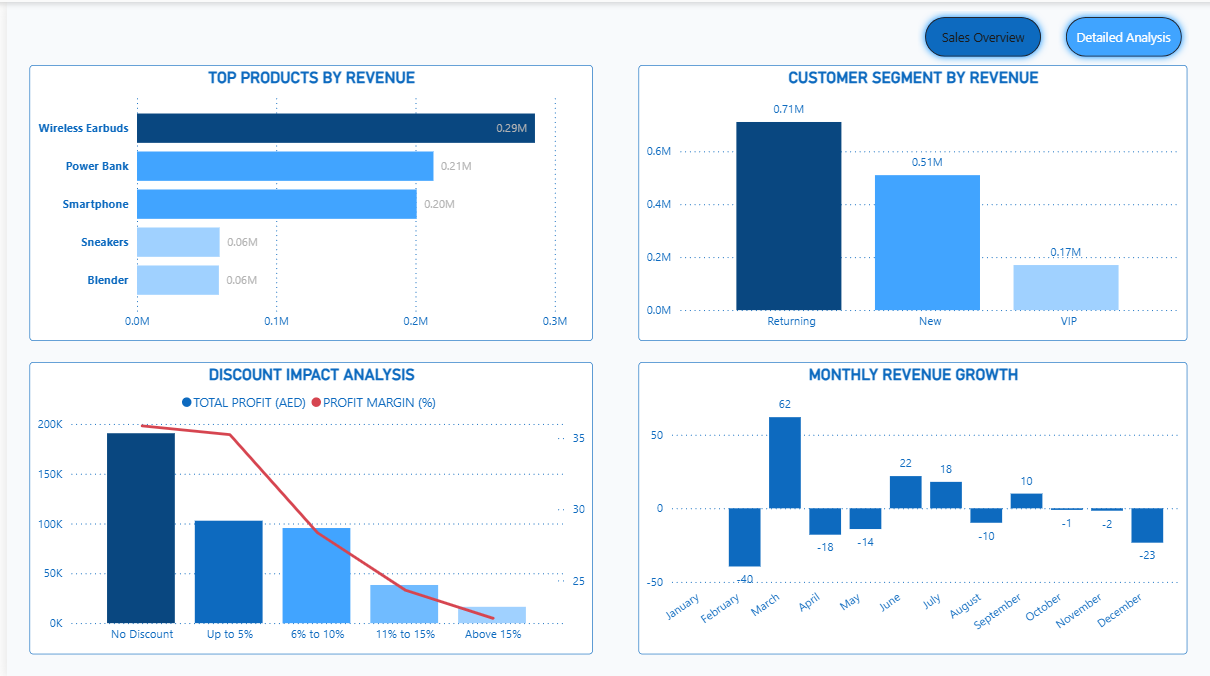

The page's visual inventory and layout, read from the dashboard file:
{"tool":"powerbi","page":{"name":"Detailed Analysis","canvas":[1280,720],"ordinal":1},"visuals":[{"type":"clusteredBarChart","title":"TOP PRODUCTS BY REVENUE","fields":{"Category":["Top_Products.Product_Name"],"Y":["Sum(Top_Products.Total_Revenue_AED)"]},"box":[24.6,66.1,597.2,292.9],"z":0},{"type":"clusteredColumnChart","title":"CUSTOMER SEGMENT BY REVENUE","fields":{"Category":["Customer_Analysis.Customer_Segment"],"Y":["Sum(Customer_Analysis.Total_Revenue_AED)"]},"box":[669,66.1,582.1,292.9],"z":1000},{"type":"lineClusteredColumnComboChart","title":"DISCOUNT IMPACT ANALYSIS","fields":{"Category":["Discount_Analysis.Discount_Group"],"Y":["Sum(Discount_Analysis.Total_Profit_AED)"],"Y2":["Sum(Discount_Analysis.Profit_Margin_Percentage)"]},"box":[24.6,381.7,597.2,309.9],"z":2000},{"type":"clusteredColumnChart","title":"MONTHLY REVENUE GROWTH","fields":{"Category":["Monthly_Growth.Month_Name"],"Y":["Monthly_Growth.Monthly Growth Value"]},"box":[669,382,582,310],"z":3000},{"type":"pageNavigator","box":[965.7,7.6,289.1,58.6],"z":4000}]}

Visuals, with their boxes in screenshot pixels (x1, y1, x2, y2), scaled from the page's 1280x720 canvas onto the 1210x676 screenshot:
"TOP PRODUCTS BY REVENUE" clusteredBarChart: {"x1": 23, "y1": 62, "x2": 588, "y2": 337}
"CUSTOMER SEGMENT BY REVENUE" clusteredColumnChart: {"x1": 632, "y1": 62, "x2": 1183, "y2": 337}
"DISCOUNT IMPACT ANALYSIS" lineClusteredColumnComboChart: {"x1": 23, "y1": 358, "x2": 588, "y2": 649}
"MONTHLY REVENUE GROWTH" clusteredColumnChart: {"x1": 632, "y1": 359, "x2": 1183, "y2": 650}
pageNavigator: {"x1": 913, "y1": 7, "x2": 1186, "y2": 62}
